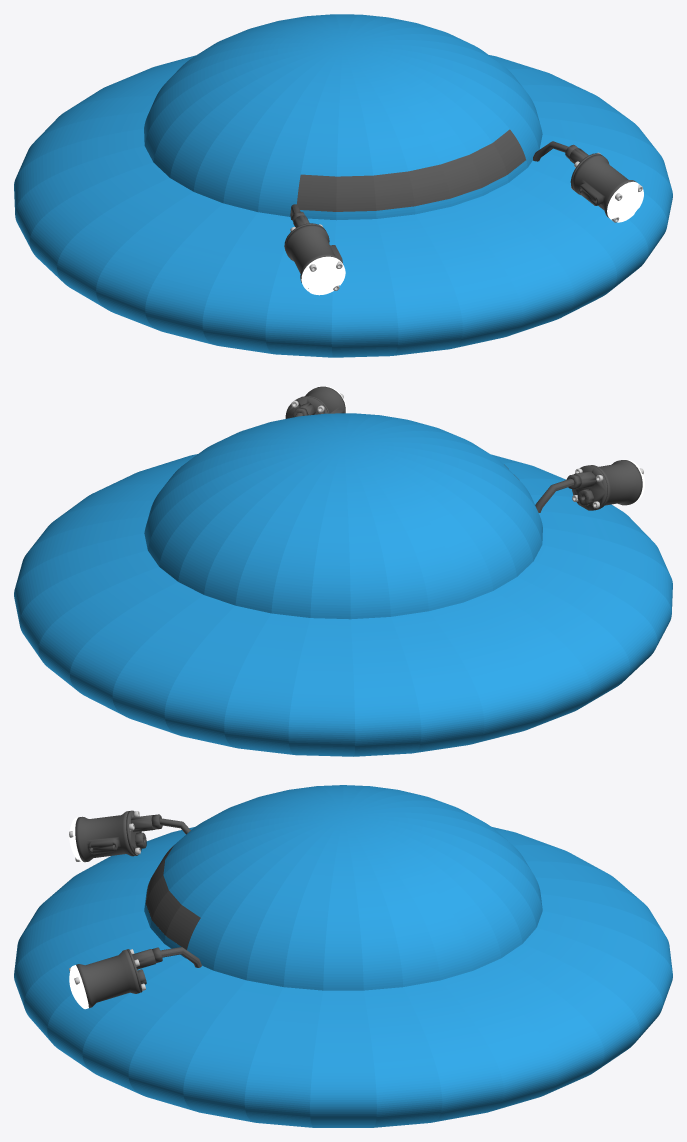
File: CUSTOM.glb
3 views of the same model, one above another, from view 1: azimuth 30°, elevation 25°; view 2: azimuth 150°, elevation 25°; view 3: azimuth 270°, elevation 25° (orthographic).
Parts seen in each view (by area): view 1: NEWTON_GRIPPER.031; view 2: NEWTON_GRIPPER.031; view 3: NEWTON_GRIPPER.031.
Part boxes in pixels (<box>): NEWTON_GRIPPER.031: <box>14,14,672,357</box>; NEWTON_GRIPPER.031: <box>14,386,672,756</box>; NEWTON_GRIPPER.031: <box>14,785,672,1127</box>.
Bounding box in the file's own units: 0.5361 × 0.2066 × 0.5368.
